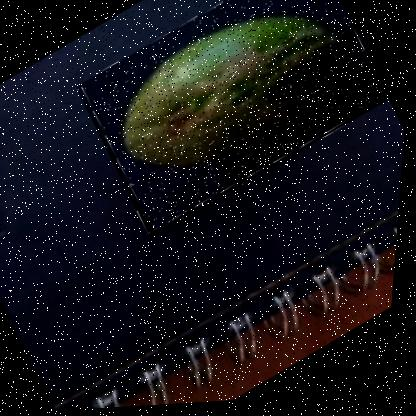orange_rotten: (66, 0, 398, 245)
